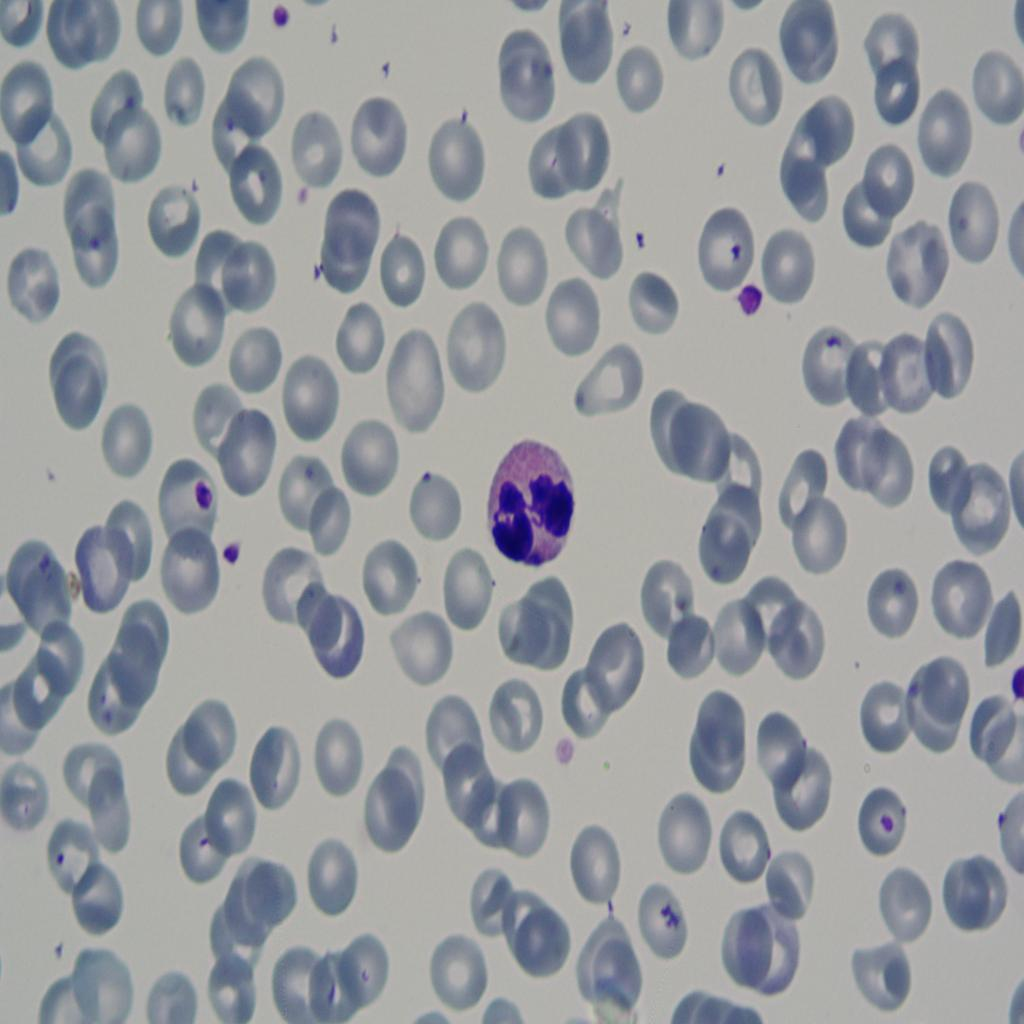Neutrofil: (477, 417, 578, 576)
Platelet: (206, 526, 252, 572), (735, 272, 766, 324), (628, 219, 657, 267), (722, 222, 750, 266), (184, 475, 216, 512), (1009, 658, 1024, 714), (271, 4, 300, 32), (878, 807, 898, 837)
